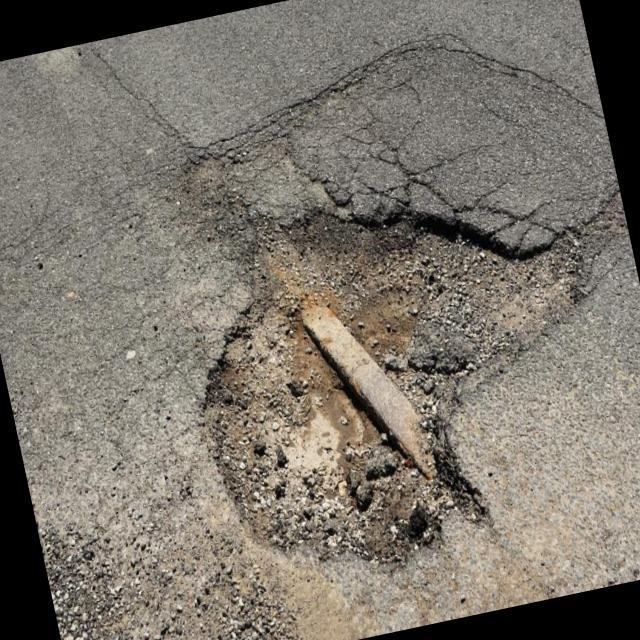Pothole: (140, 147, 610, 528)
